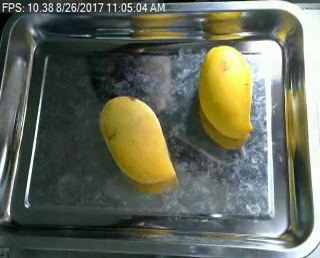Mango: (95, 91, 182, 194), (194, 46, 263, 153)
